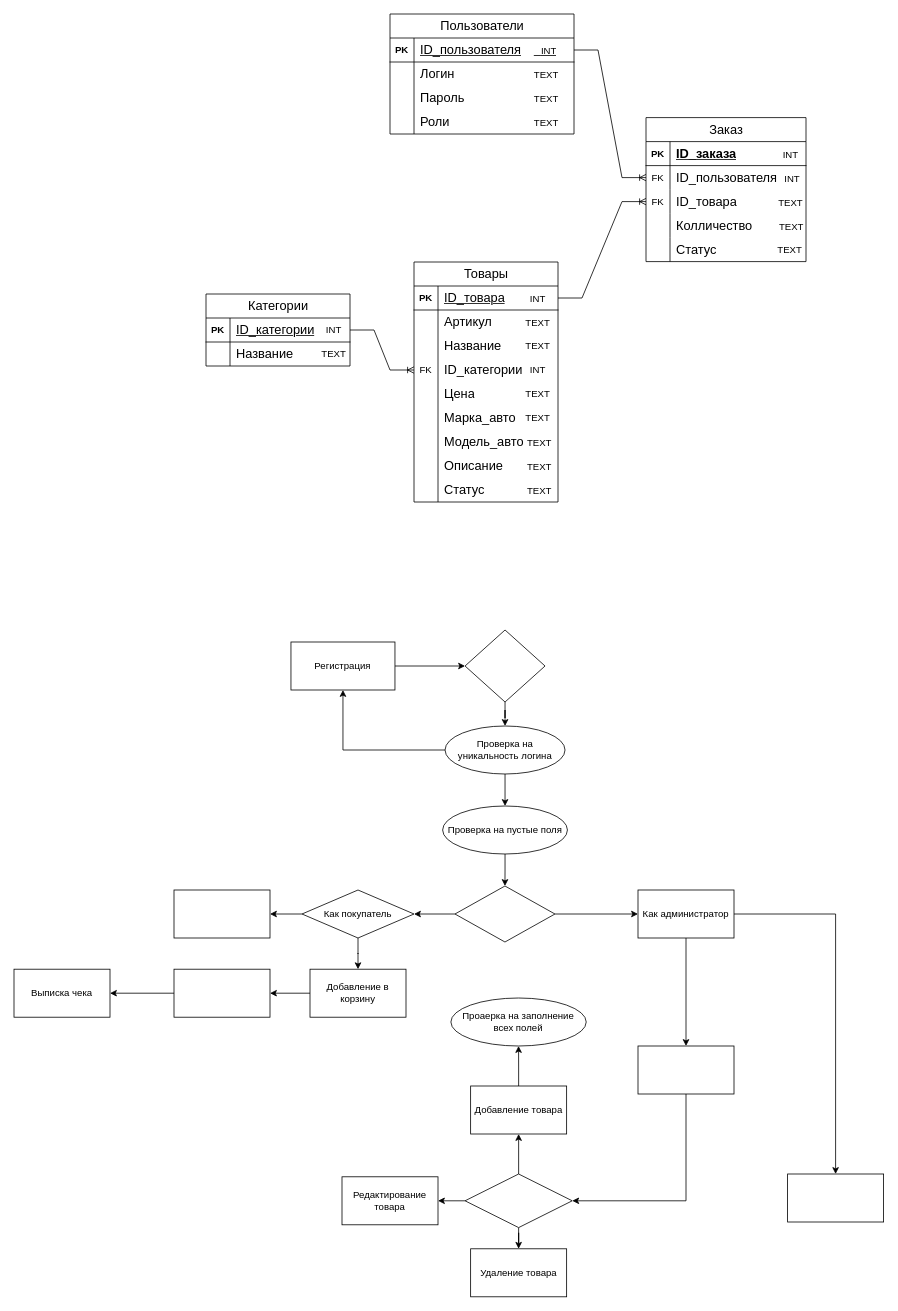
This 898x1311 diagram has some shape labels left out. Here are the shapes that lost their labels. From the top down, the centre of each, then its label:
At (504,665): "Вход в приложение".
At (221,913): "Просмотр товаров".
At (504,913): "Авторизация".
At (221,992): "Оформление заказа".
At (685,1069): "Выдает роли".
At (518,1200): "сотрудник/менеджер".
At (835,1197): "Удаление пользователей".
